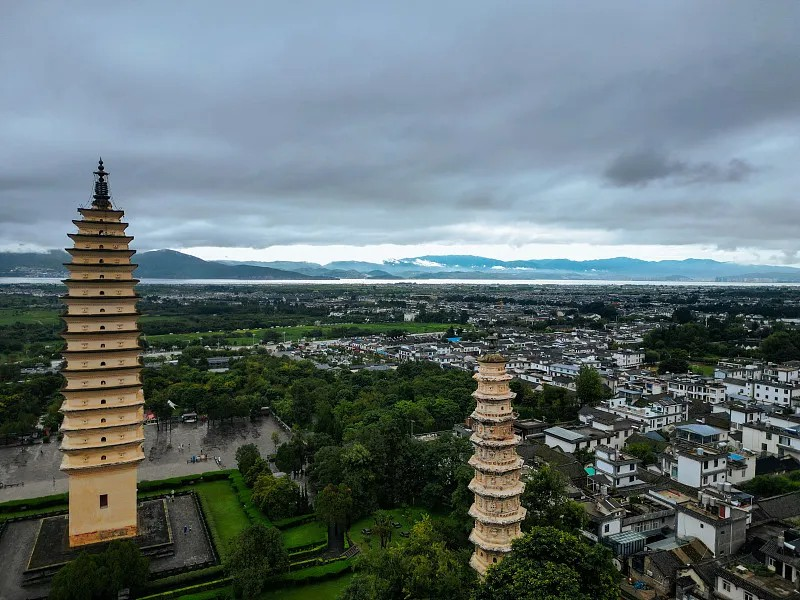ThreePagoda: (57, 159, 146, 548)
